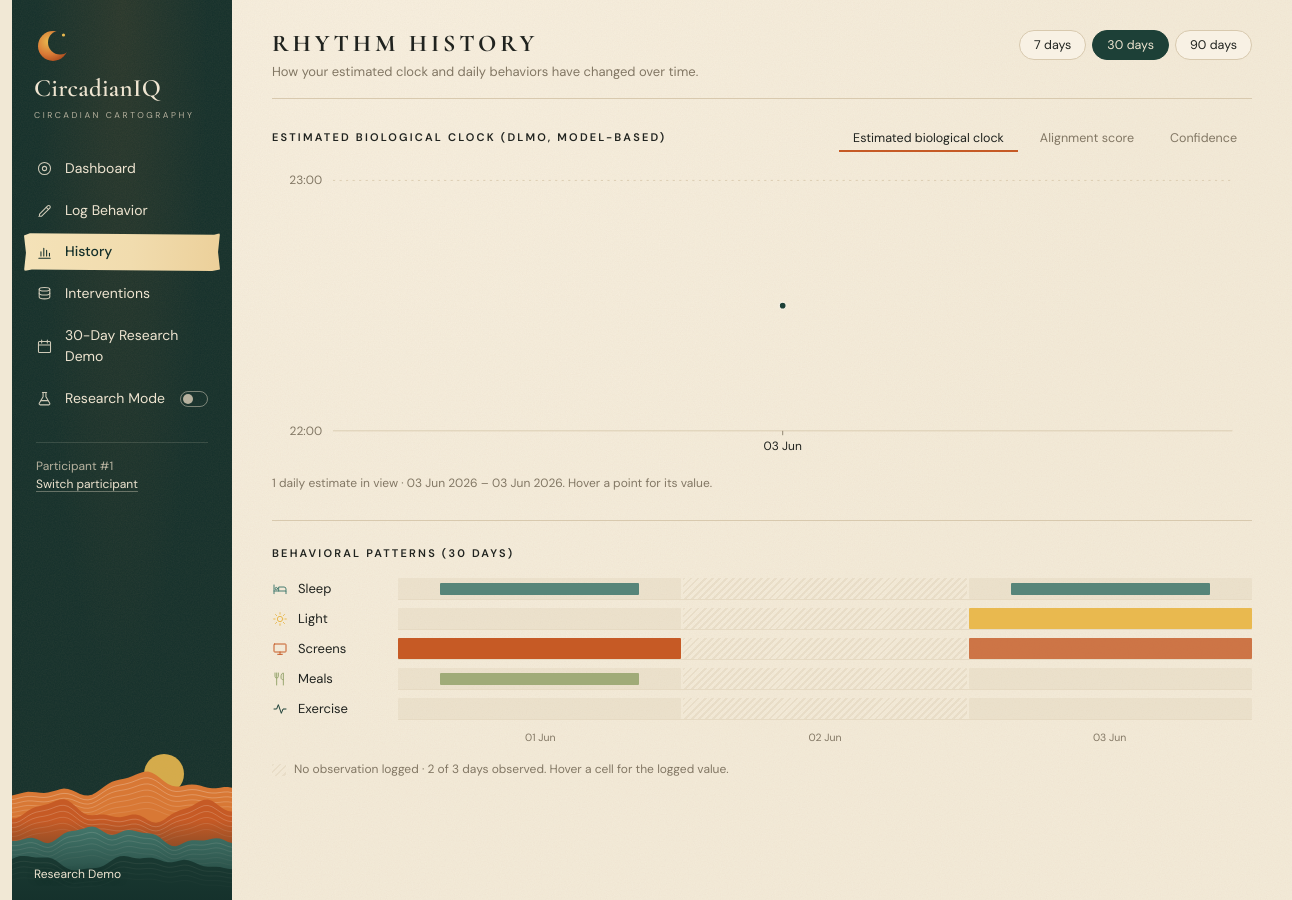
Test: History › re-requests both history endpoints when the range changes
The width and height of the screenshot is (1292, 900).
Expected: the picture named "2 of 3 days have logged observations" is shown, [272,574,1252,750]
Click the button "7 days".
click(1053, 45)  # box [1019,30,1086,60]
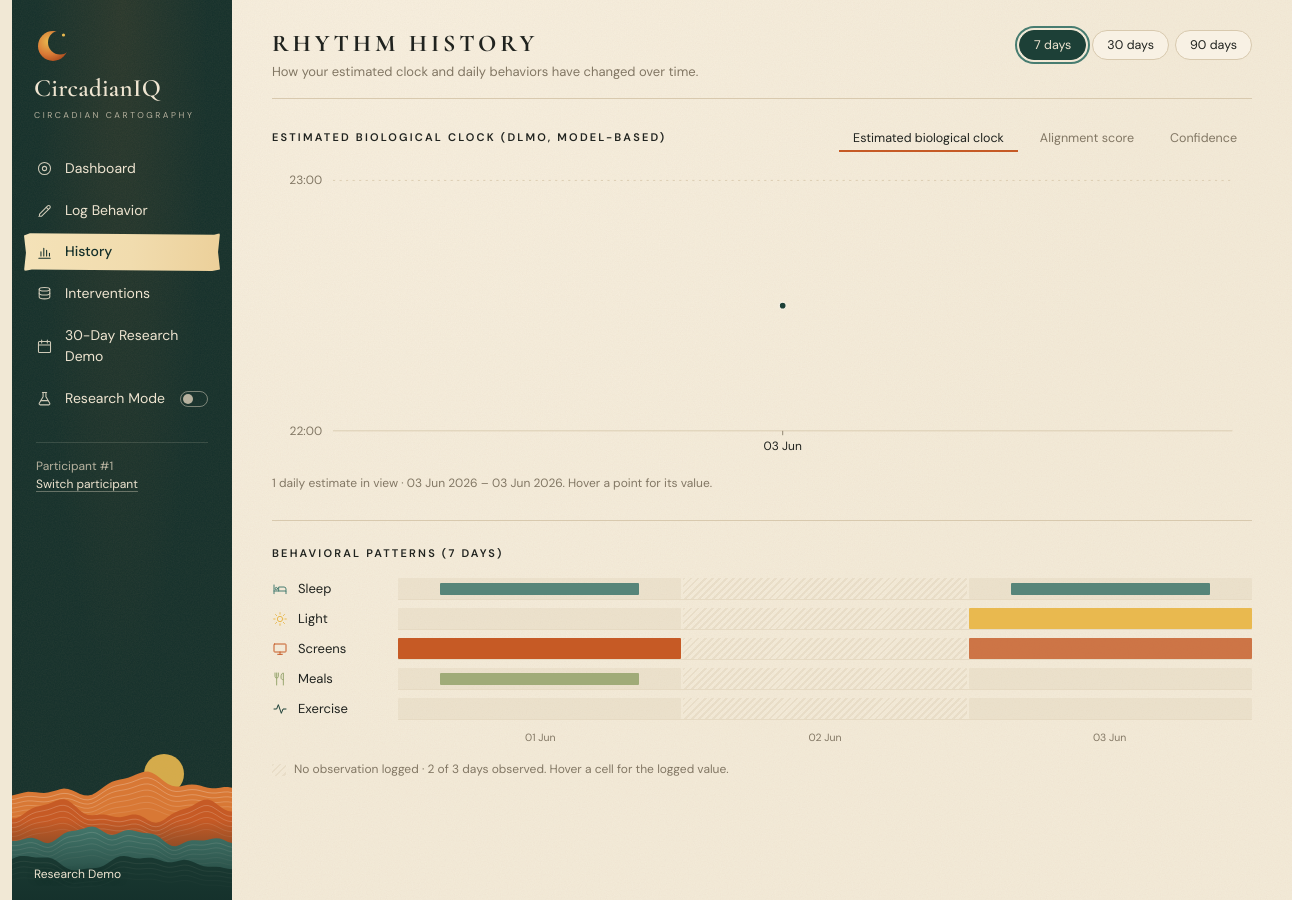
Result: the button "7 days" is pressed at [1019,30,1086,60]
